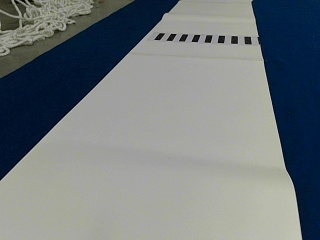crosswalk: (154, 32, 252, 44)
